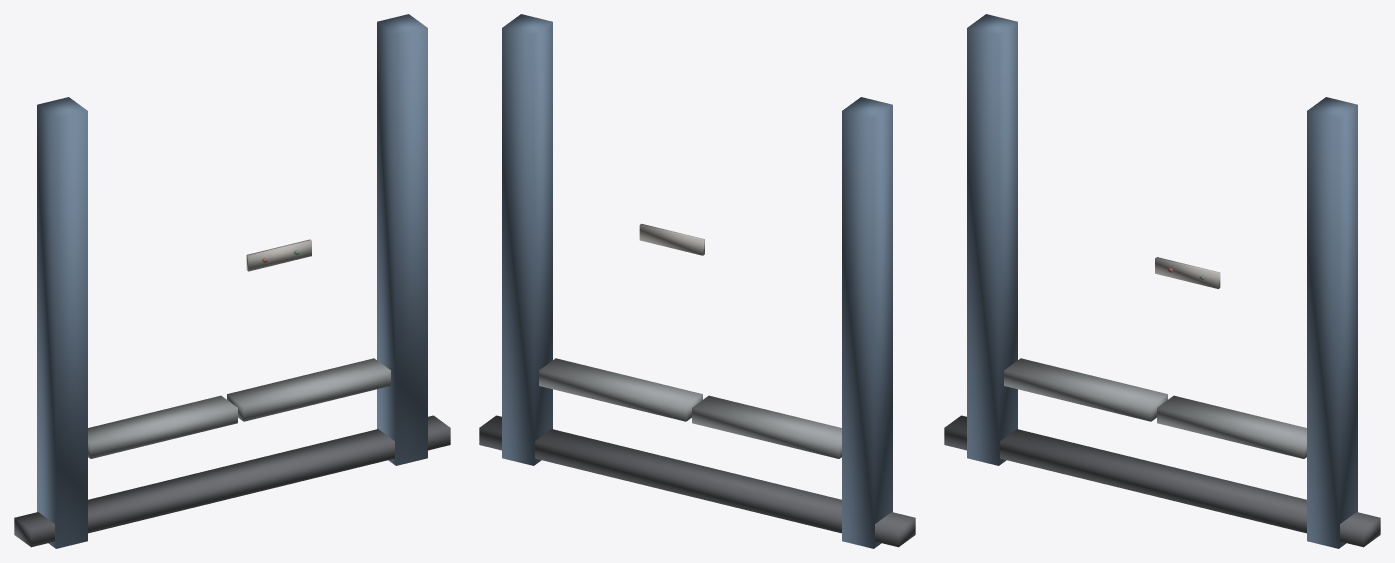
File: two_post_car_lift__wide.glb
3 views of the same model, side by side, from view 1: azimuth 30°, elevation 25°; view 2: azimuth 150°, elevation 25°; view 3: azimuth 330°, elevation 25° (orthographic).
Visible parts, largest first — view 1: world; view 2: world; view 3: world.
Boxes of the visible parts, x1,y1,x2,y2 form: world: (14,14,450,548); world: (479,14,915,548); world: (944,14,1380,548).
Size of the model in its own units: 2.29 by 2.25 by 0.211.
